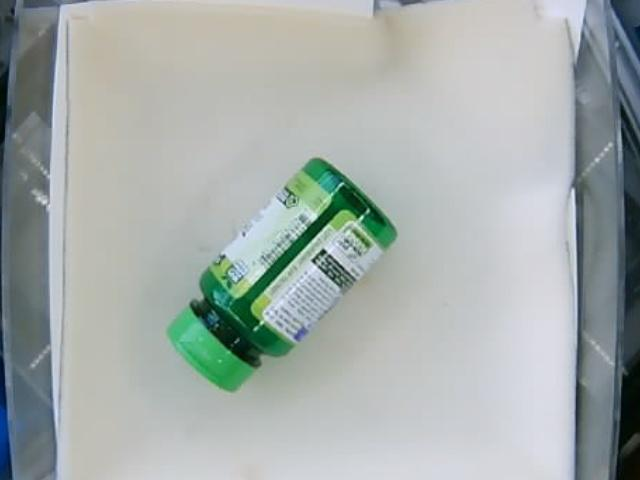Bottle: (167, 159, 398, 398)
